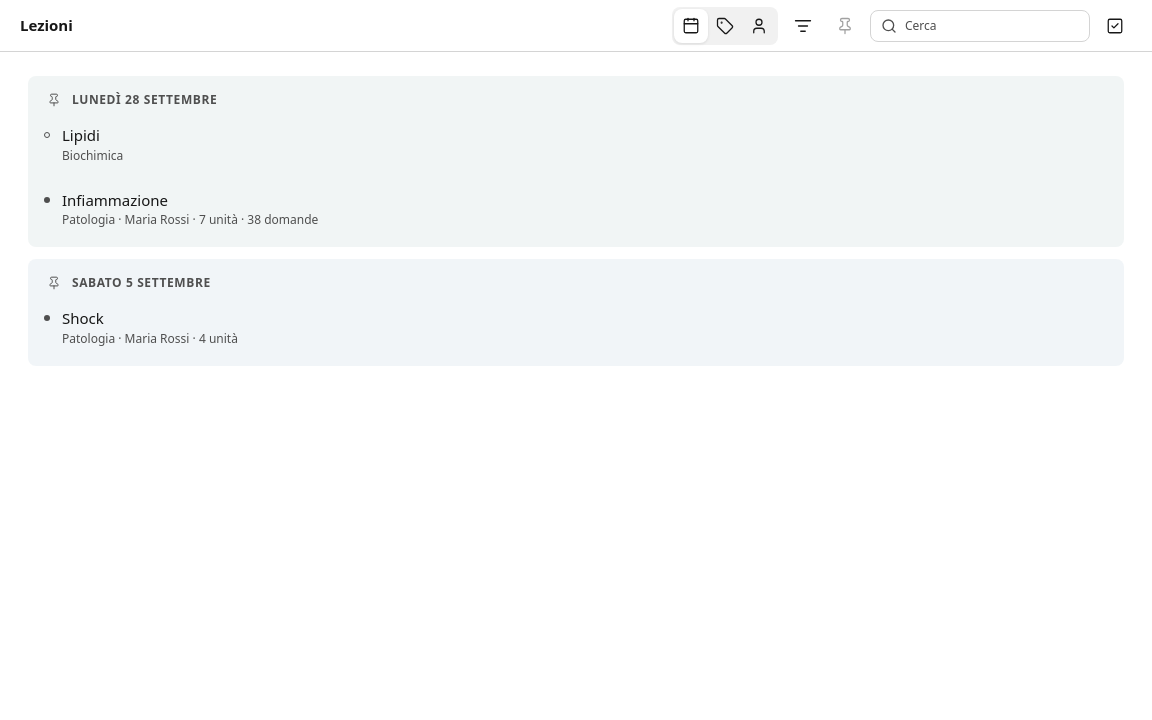
pagina Lezioni › la barra seleziona tutte le lezioni visibili e poi le deseleziona
This screenshot has width=1152, height=720.
Click the button named "Seleziona": (1115,26) [1098,8,1132,42]
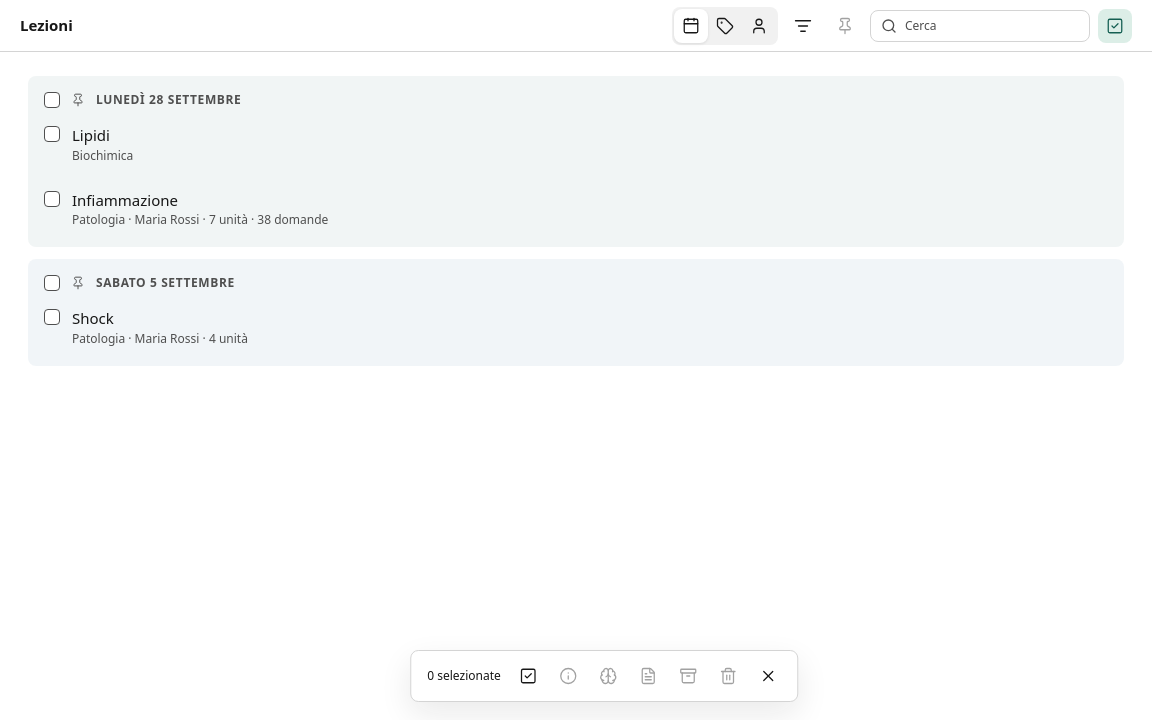
Click the button named "Seleziona tutto": (528,676) [511,659,545,693]
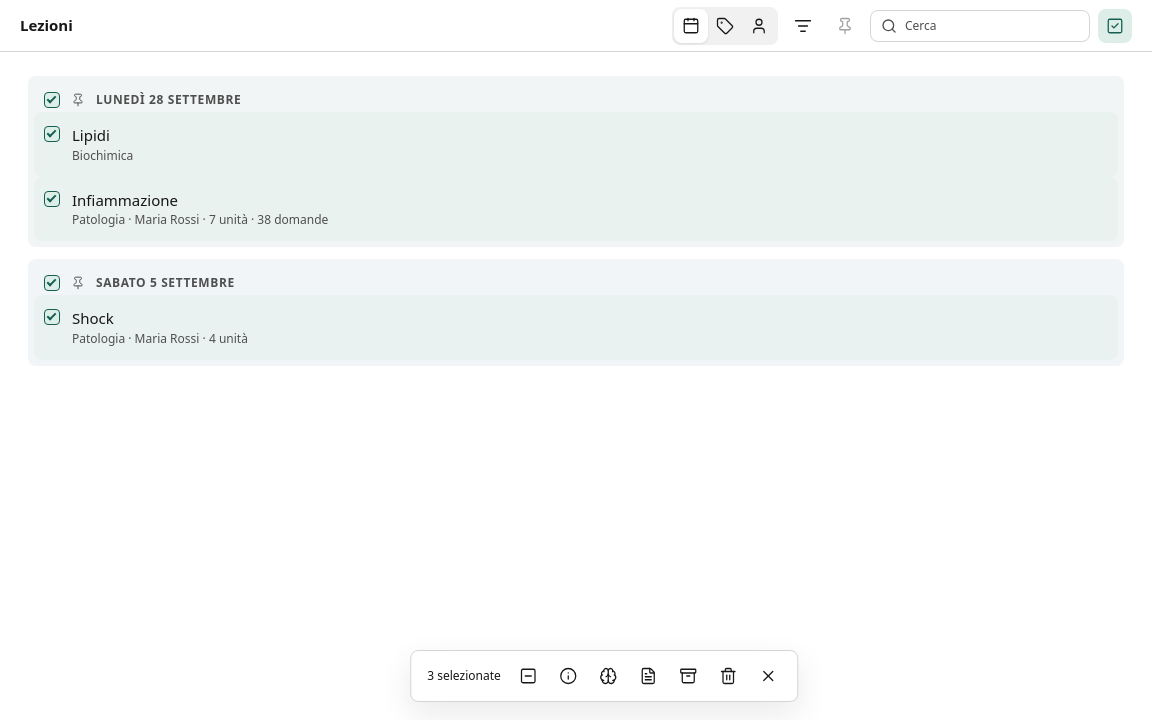
Check: the checkbox labelled "Shock Patologia · Maria Rossi · 4 unità" is checked, box [44,309,60,325]
Check: the text with test id "selection-count" reads "3 selezionate", box [427,667,501,684]
Click the button named "Deseleziona tutto": (528,676) [511,659,545,693]
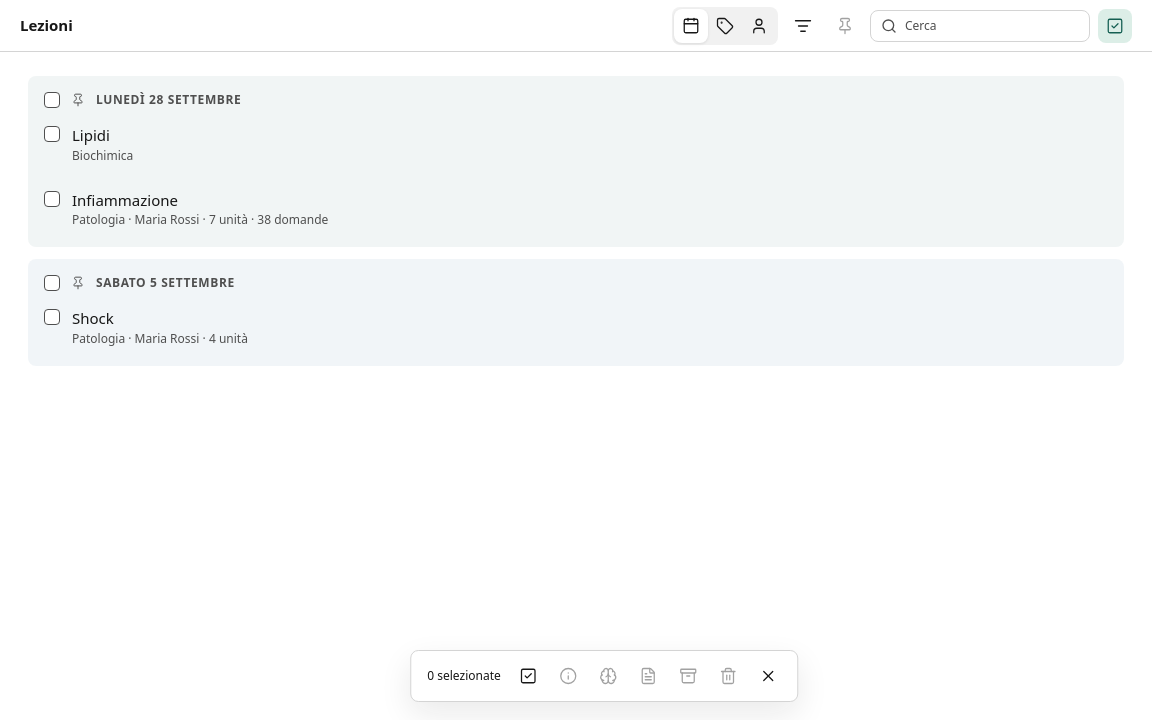
Check: the button named "Seleziona tutto" is shown, box [511,659,545,693]
Check: the checkbox labelled "Shock Patologia · Maria Rossi · 4 unità" is not checked, box [44,309,60,325]
Check: the text with test id "selection-count" reads "0 selezionate", box [427,667,501,684]
